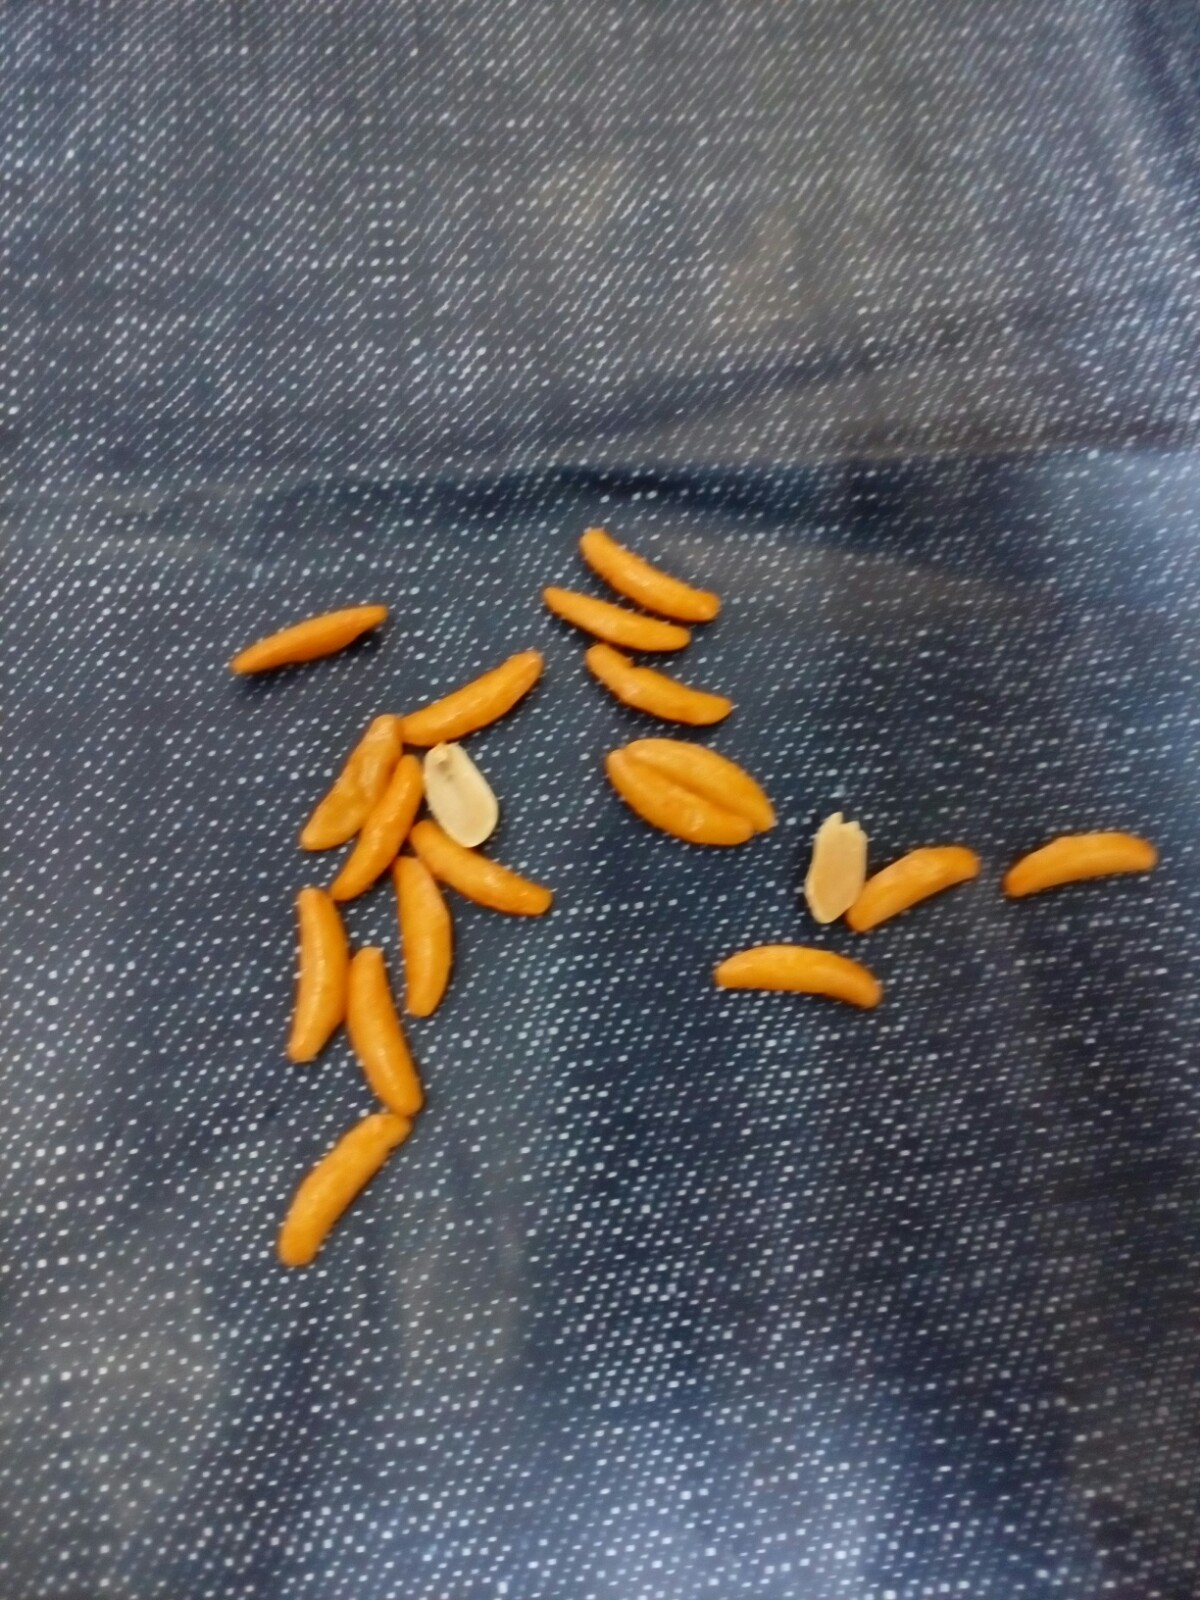peanut: (420, 724, 505, 872), (805, 797, 874, 929)
